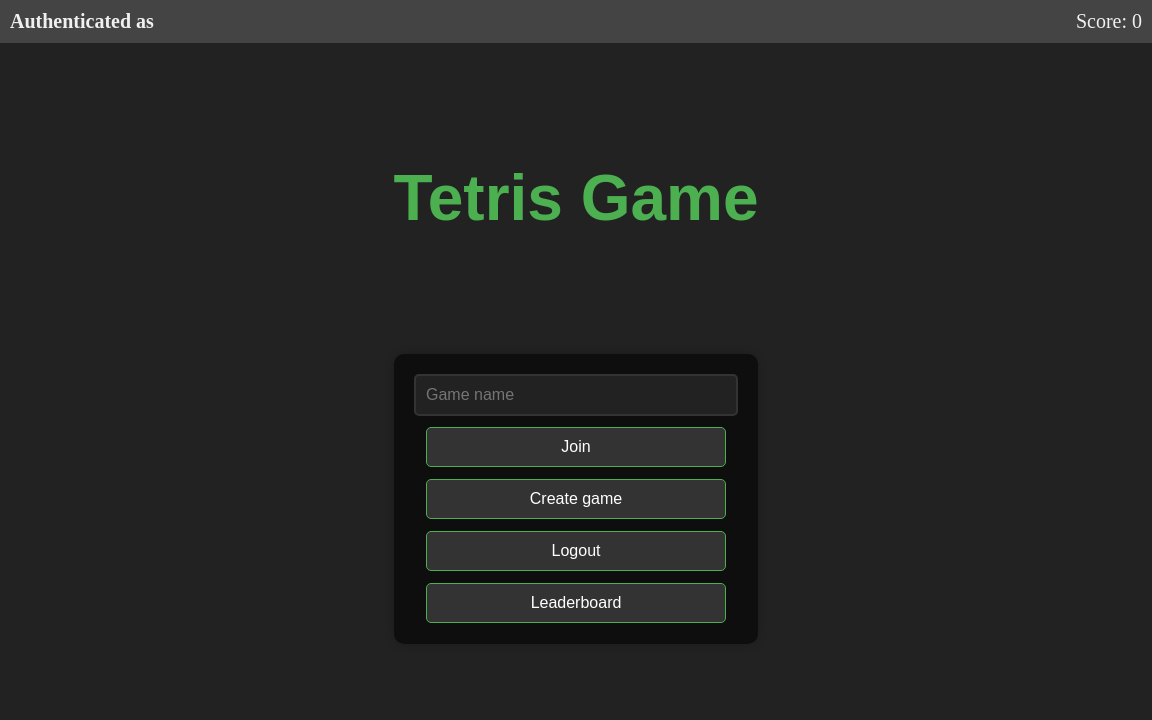
Test: Home Component › should handle network errors gracefully when creating a game
Click the button "Create game".
click(576, 499)  # box top-left (426, 479), bottom-right (726, 519)
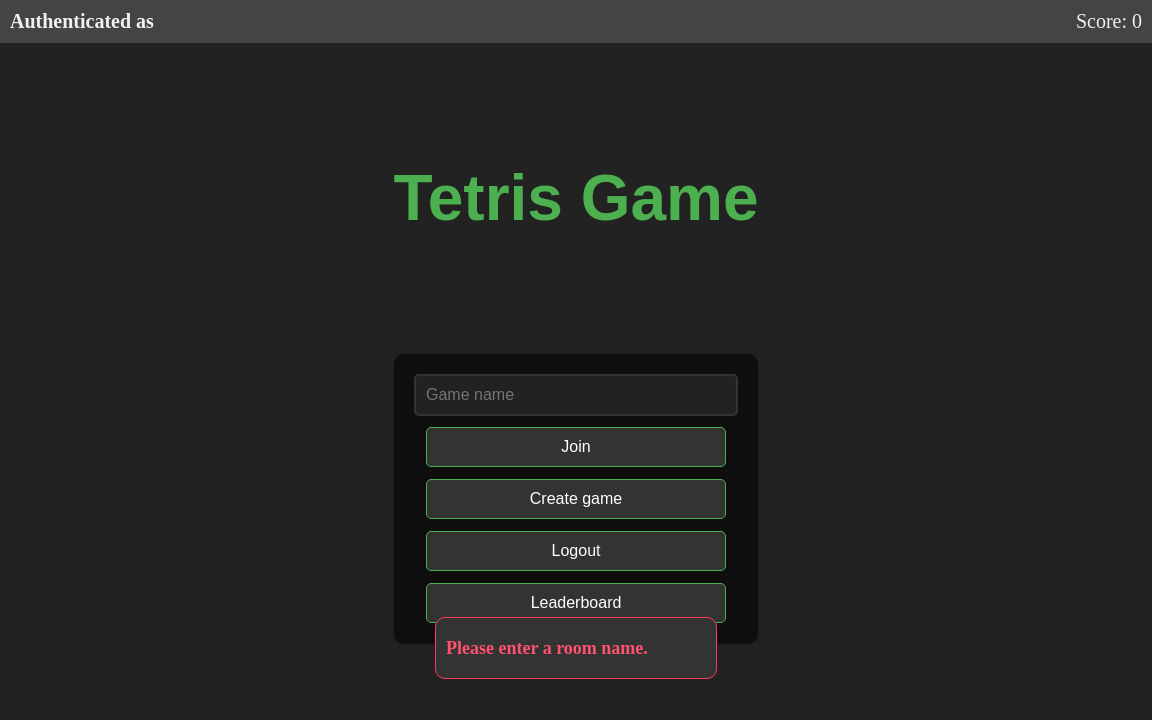
Result: the text "Please enter a room name." is shown at top-left (435, 617), bottom-right (717, 679)
